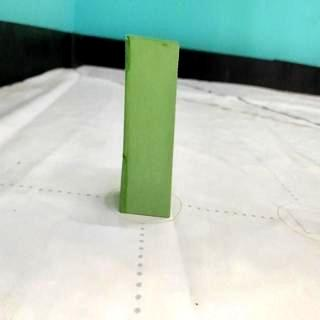greenbox: (120, 31, 182, 219)
